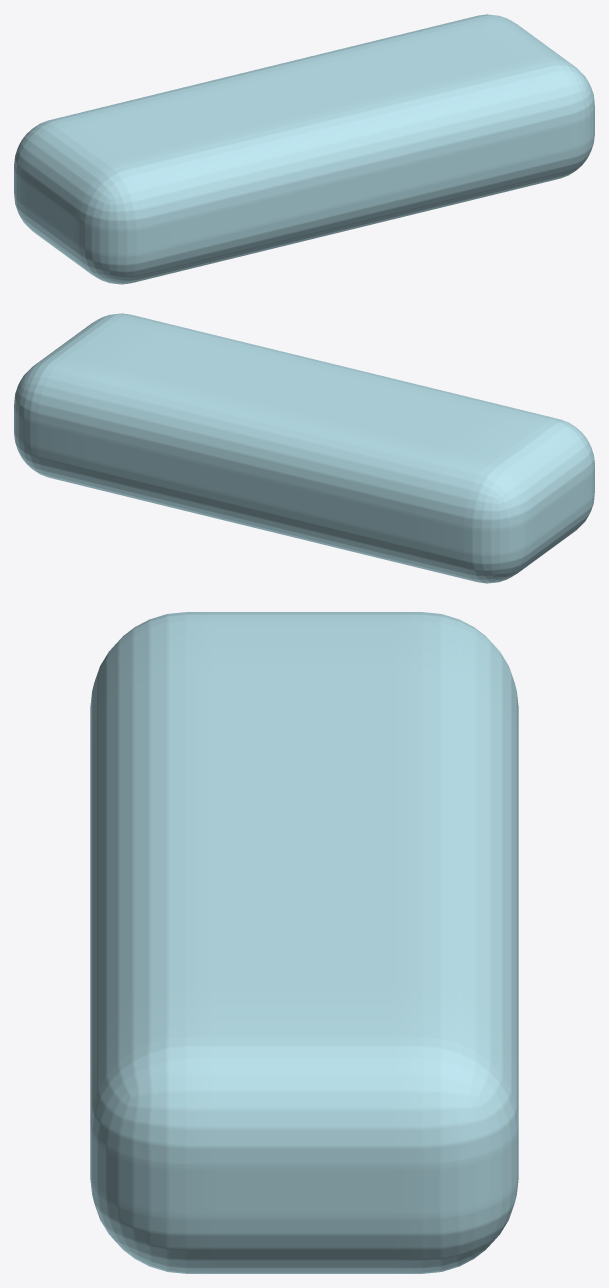
The model's file is squishy-navigation.glb.
The picture shows the model from 3 angles, top to bottom: view 1: azimuth 30°, elevation 25°; view 2: azimuth 150°, elevation 25°; view 3: azimuth 270°, elevation 25°; orthographic projection. The views are drawn at different scales.
Parts seen in each view (by area): view 1: About_Squishy_Button; view 2: About_Squishy_Button; view 3: About_Squishy_Button.
Part boxes in pixels (<box>): About_Squishy_Button: <box>14,14,594,284</box>; About_Squishy_Button: <box>14,313,594,583</box>; About_Squishy_Button: <box>90,612,518,1273</box>.
Size of the model in its own units: 2.8 by 0.6 by 1.02.
